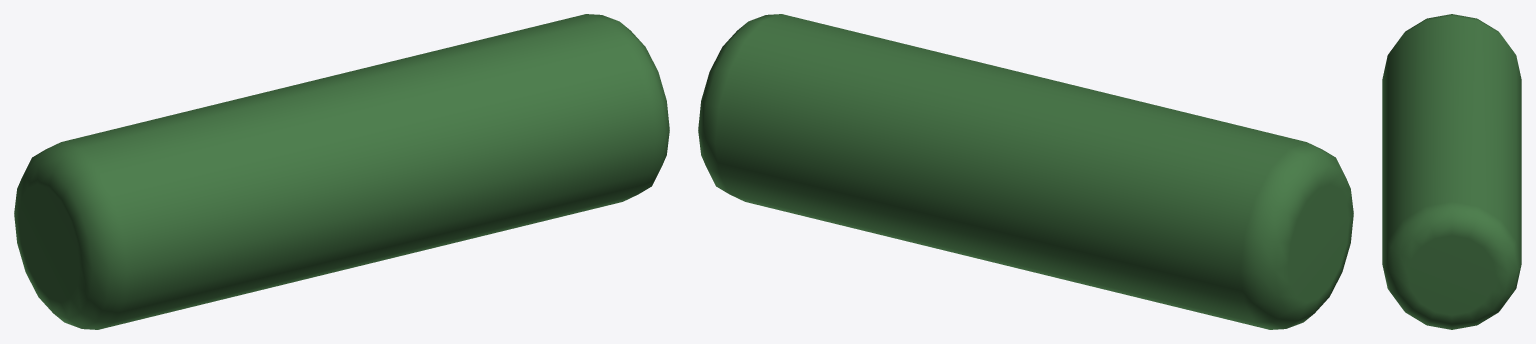
Rendered from SM_Bed_02a.fbx.
The picture shows the model from 3 angles, left to right: view 1: azimuth 30°, elevation 25°; view 2: azimuth 150°, elevation 25°; view 3: azimuth 270°, elevation 25°; orthographic projection. The views are drawn at different scales.
Visible parts, largest first — view 1: SM_Bed_02a; view 2: SM_Bed_02a; view 3: SM_Bed_02a.
Boxes of the visible parts, x1=… form: SM_Bed_02a: x1=14, y1=14, x2=669, y2=329; SM_Bed_02a: x1=698, y1=14, x2=1353, y2=329; SM_Bed_02a: x1=1382, y1=14, x2=1521, y2=329.
Size of the model in its own units: 96.7 by 27.5 by 27.5.
